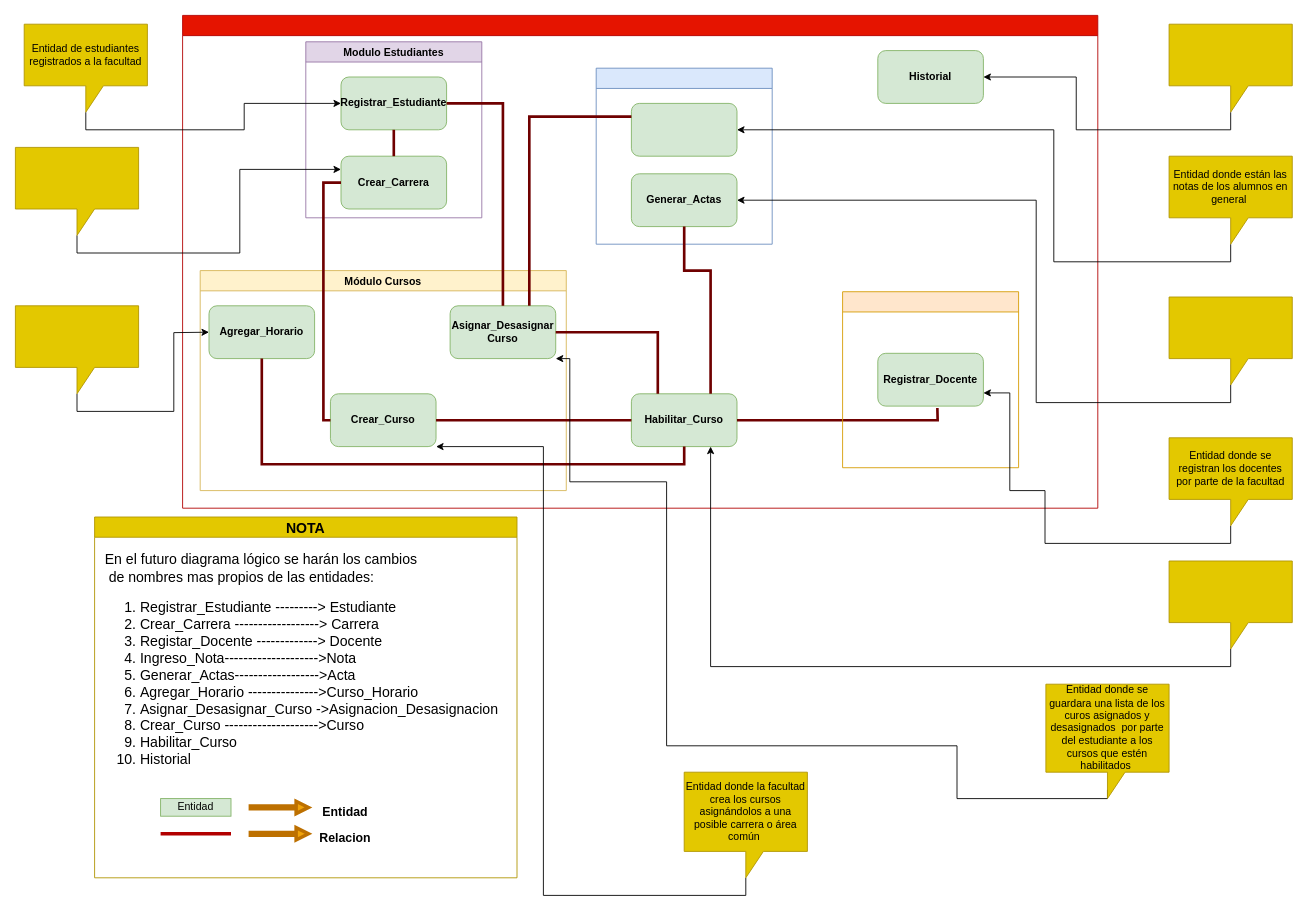
Image size: 1308x918. Some labels were removed from this diagram. The box of each missing label's shape, as (x1, y1, x2, y2) in pixels:
Entidad de carreras registradas por parte de la facultad: (15, 147, 139, 235)
Entidad de historial de transacciones ocurridas en la facultad: (1168, 23, 1292, 112)
Entidad donde están las actas de los alumnos en general: (1168, 296, 1292, 385)
Entidad donde están los horarios de los cursos habilitados: (15, 305, 139, 394)
Entidad donde se habilitan los cursos con docentes y sección: (1168, 560, 1292, 649)
Facultad de Ingeniería: (182, 15, 1098, 508)
Ingreso_Notas: (631, 103, 737, 156)
Módulo Actas Finales: (595, 67, 772, 244)
Módulo Docentes: (842, 291, 1019, 468)
